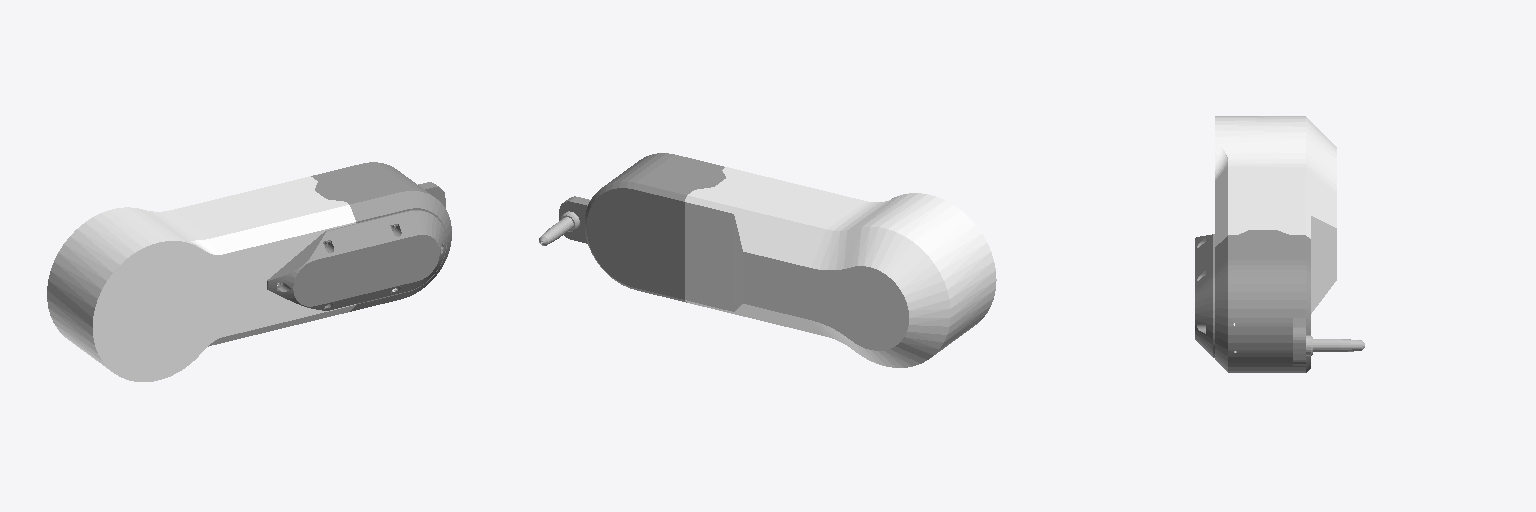
File: link3_probe.obj
3 views of the same model, side by side, from view 1: azimuth 30°, elevation 25°; view 2: azimuth 150°, elevation 25°; view 3: azimuth 270°, elevation 25° (orthographic).
Bounding box in the file's own units: 0.2675 × 0.0899 × 0.101.